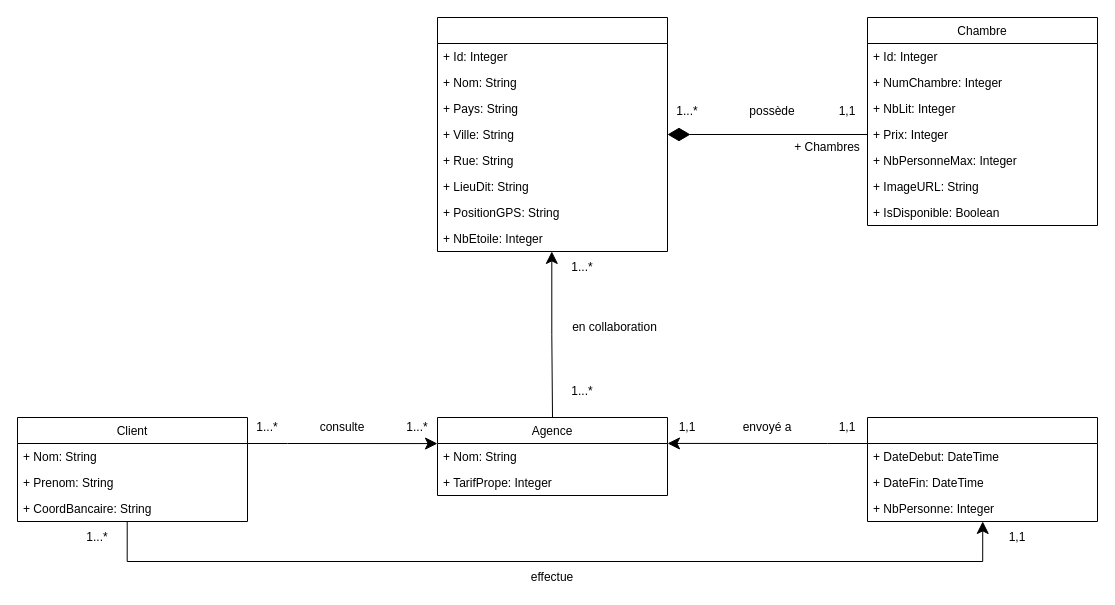
This 1115x605 diagram has some shape labels left out. Here are the shapes that lost their labels. From the top down, the box of each, then its label:
(436, 16, 668, 252): Hotel
(866, 416, 1098, 522): Reservation
